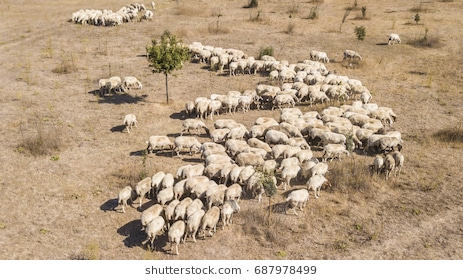sheep: (204, 176, 234, 208), (166, 132, 205, 156), (162, 186, 193, 212), (277, 154, 303, 185), (156, 173, 189, 197), (141, 200, 171, 226), (136, 175, 166, 200), (202, 42, 234, 65), (252, 128, 278, 154), (141, 217, 163, 247), (141, 135, 171, 157), (236, 163, 262, 188), (273, 119, 302, 140), (187, 178, 212, 201), (167, 219, 186, 249), (184, 208, 203, 238), (193, 130, 220, 151), (218, 124, 242, 147), (221, 193, 239, 223), (116, 113, 141, 134), (283, 183, 303, 209), (115, 183, 140, 203), (381, 131, 401, 156), (101, 76, 125, 96), (207, 203, 221, 237), (339, 123, 359, 146), (320, 139, 342, 159), (369, 151, 389, 173), (128, 6, 150, 26), (204, 158, 225, 178), (180, 161, 202, 180), (369, 101, 392, 119), (197, 100, 216, 121), (359, 119, 378, 140), (342, 78, 363, 96), (259, 59, 280, 77), (218, 50, 239, 68), (300, 56, 317, 78), (304, 160, 322, 180), (306, 121, 326, 139), (303, 173, 320, 194), (304, 79, 321, 99), (350, 107, 370, 124), (91, 10, 112, 26), (382, 29, 399, 48), (337, 49, 360, 63), (323, 83, 343, 99), (309, 49, 330, 64), (285, 81, 303, 98), (258, 84, 278, 99), (326, 110, 346, 125), (221, 162, 239, 178), (239, 55, 255, 73), (385, 156, 398, 178), (270, 91, 289, 106), (223, 176, 237, 196), (220, 92, 234, 112), (190, 44, 211, 57), (119, 74, 134, 92), (283, 65, 301, 79), (186, 101, 200, 117), (235, 87, 246, 107), (211, 95, 223, 113), (112, 12, 126, 23), (77, 14, 91, 23), (74, 6, 86, 15), (246, 85, 251, 87)
